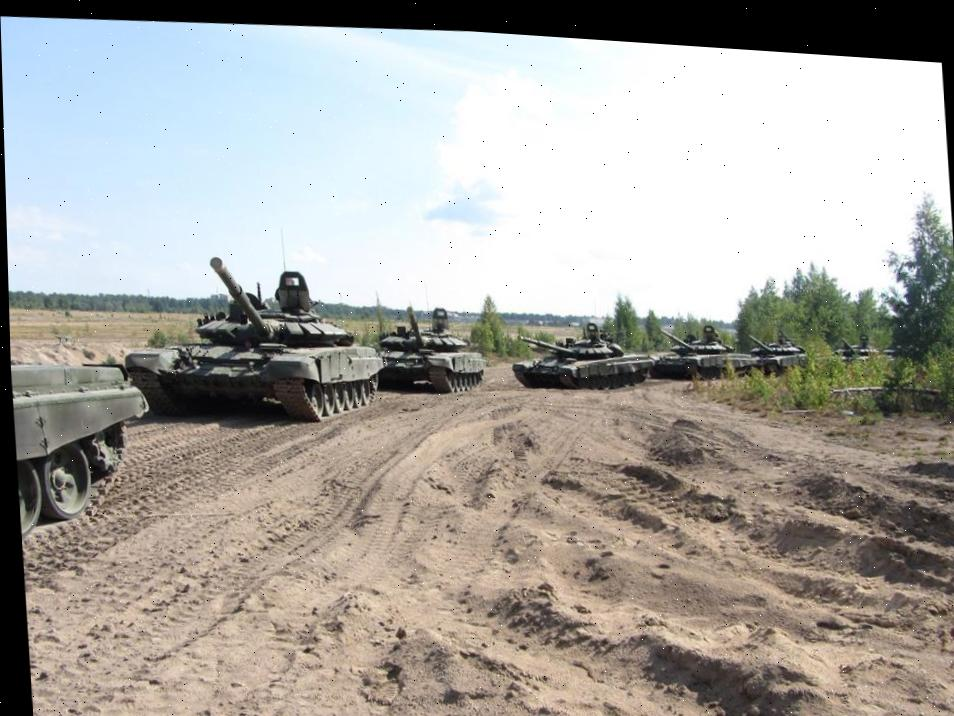tank: (115, 241, 393, 437), (9, 294, 161, 582), (509, 313, 656, 400), (367, 300, 491, 399), (651, 319, 763, 389), (746, 326, 813, 375), (822, 330, 878, 362)
